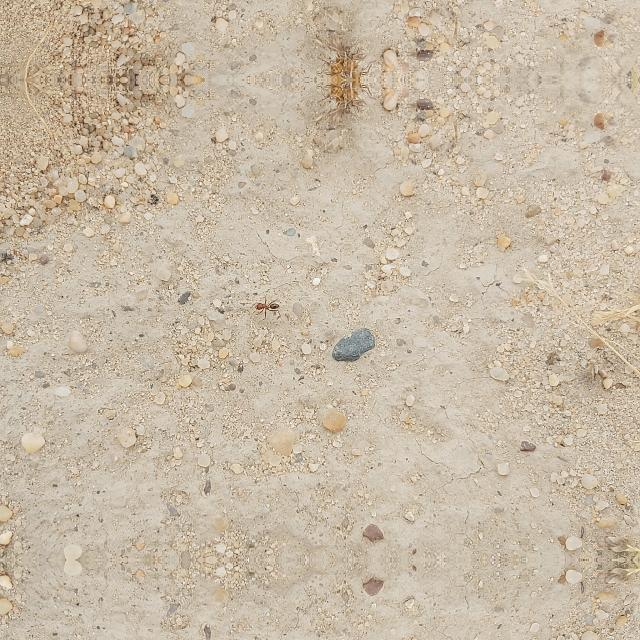Cataglyphis: (253, 298, 283, 312)
